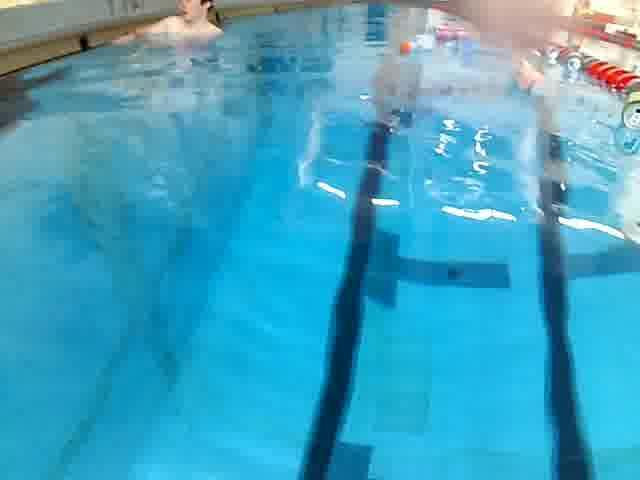Bottle: (501, 58, 553, 109), (397, 28, 449, 58)
Can: (611, 187, 640, 257), (609, 86, 640, 132), (431, 24, 479, 48), (536, 39, 560, 69), (564, 50, 586, 82)
